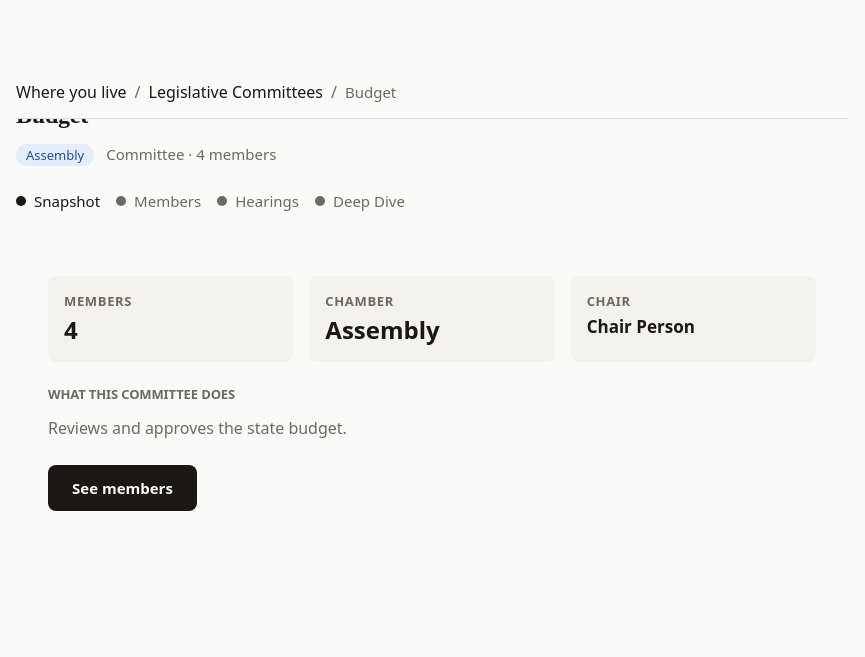
Test case: LegislativeCommitteeDetailPage › shows the live activity feed + scheduled meetings on the Hearings layer
Click the button "See members" at [122, 488], box [48, 465, 197, 512]
(page scrolled)
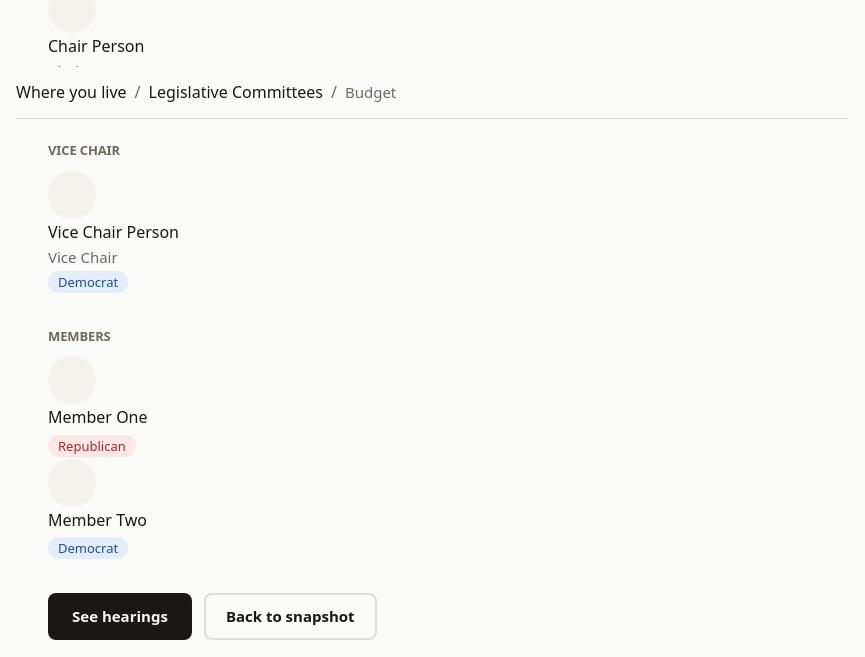
Click the button "See hearings" at [120, 616], box [48, 593, 192, 640]
(page scrolled)
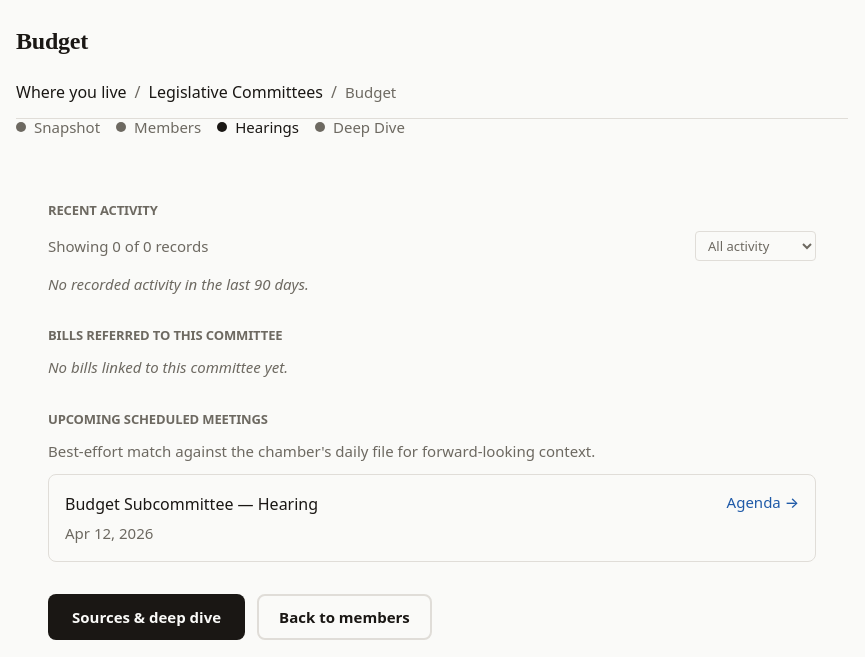
Expected: the heading "Recent activity" is shown, [48, 201, 158, 219]
Expected: the heading "Upcoming scheduled meetings" is shown, [48, 410, 268, 428]
Expected: the text "Budget Subcommittee — Hearing" is shown, [65, 493, 318, 515]
